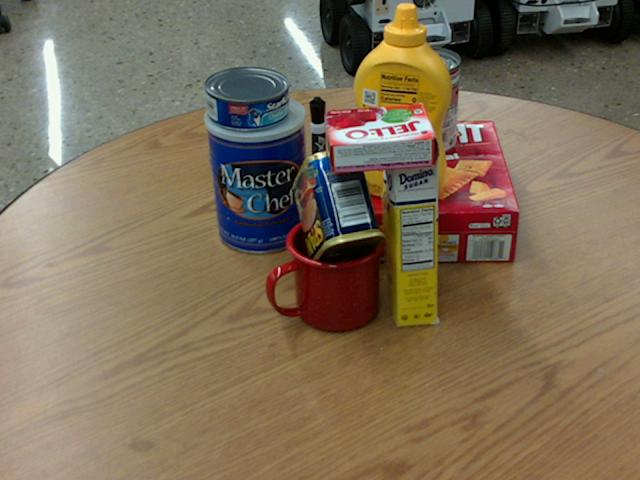cracker_box: (356, 119, 517, 261)
gelatin_box: (325, 102, 436, 171)
large_marker: (308, 98, 326, 198)
master_chef_can: (204, 91, 310, 252)
mug: (262, 214, 382, 333)
mustard_bottle: (352, 3, 451, 199)
potted_meat_can: (291, 149, 385, 270)
sugar_box: (379, 115, 436, 328)
tomato_soup_can: (397, 47, 459, 155)
tuna_fish_can: (203, 65, 288, 129)
